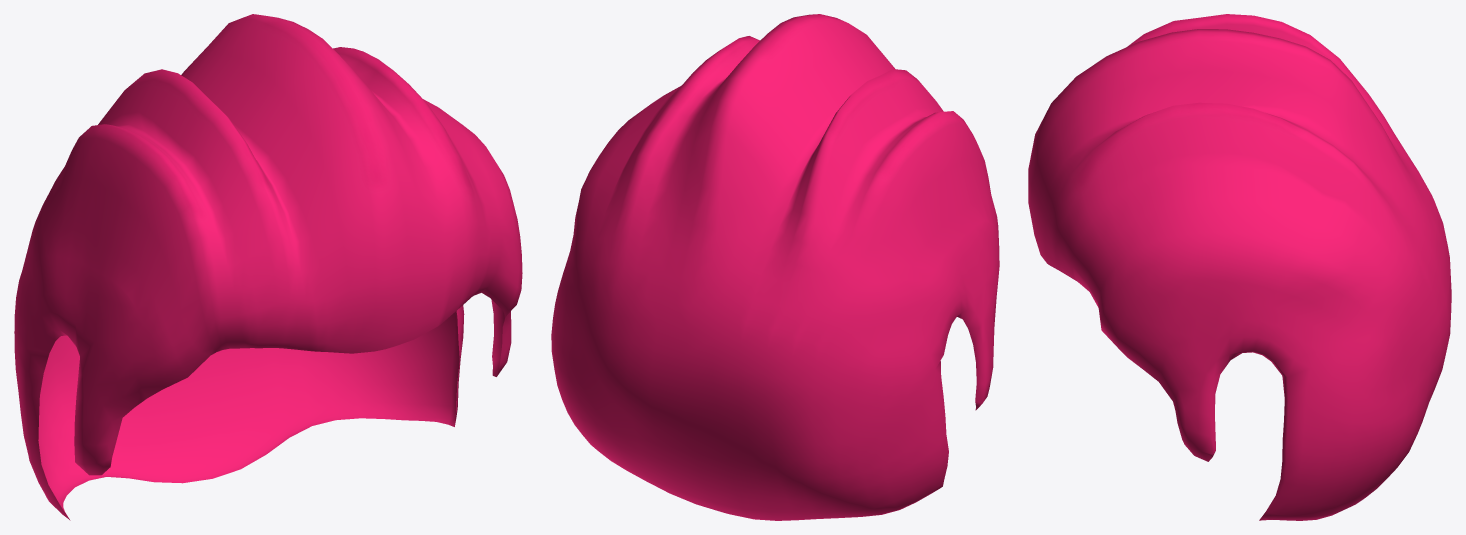
Rendered from hair6.glb.
The picture shows the model from 3 angles, left to right: view 1: azimuth 30°, elevation 25°; view 2: azimuth 150°, elevation 25°; view 3: azimuth 270°, elevation 25°; orthographic projection. The views are drawn at different scales.
Visible parts, largest first — view 1: Hair6; view 2: Hair6; view 3: Hair6.
Boxes of the visible parts, x1,y1,x2,y2 form: Hair6: (14,14,522,520); Hair6: (551,14,999,520); Hair6: (1028,14,1451,520).
Bounding box in the file's own units: 0.00863 × 0.00951 × 0.00815.
Materials: 1 (1 with a texture image).
